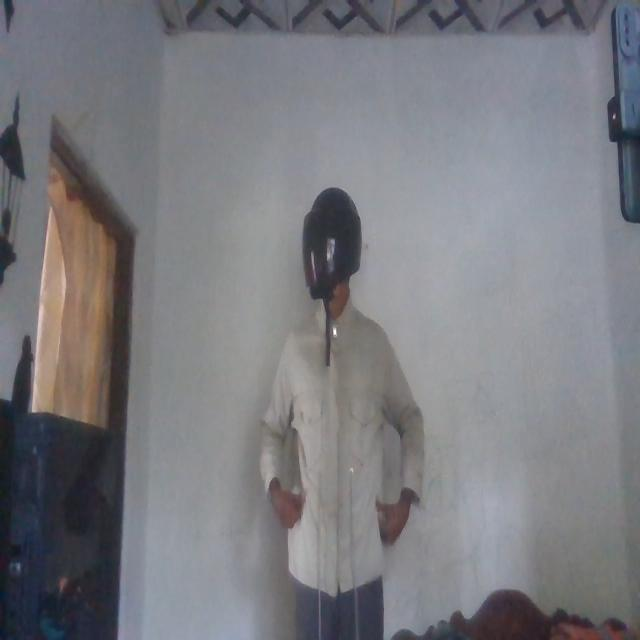Helmet_Wearer: (291, 190, 359, 324)
Jacket_Wearer: (256, 306, 425, 586)
Person: (259, 192, 425, 640)
